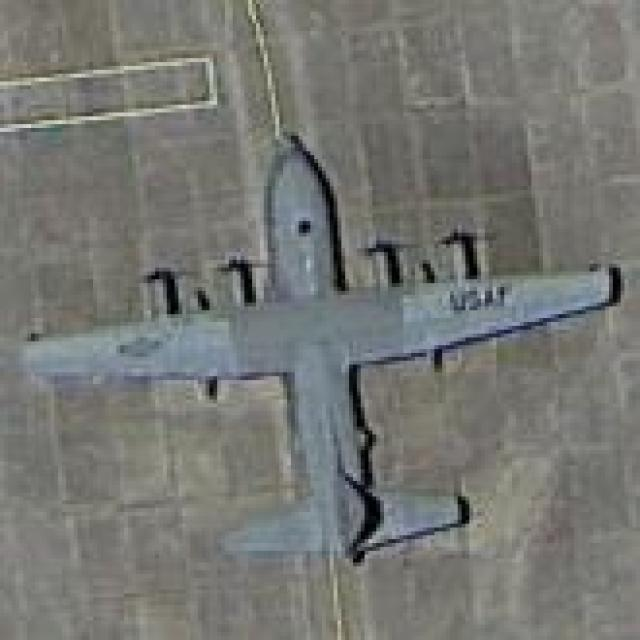C-130_TopDown: (17, 132, 624, 571)
